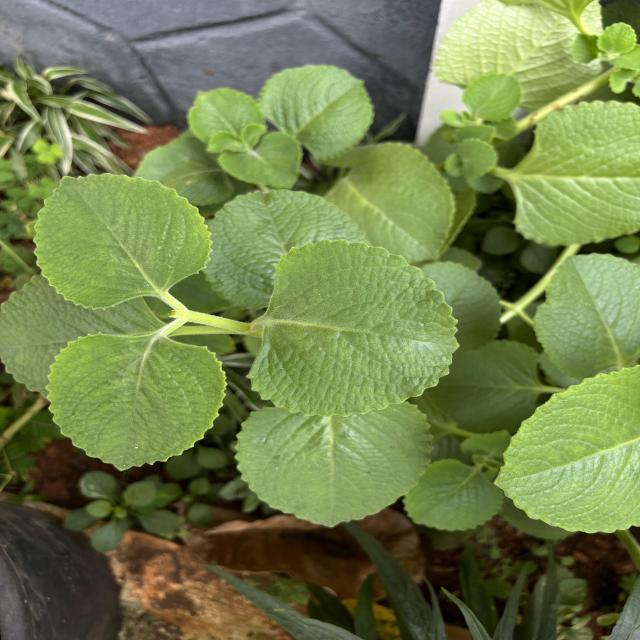Plectranthus barbatus: (246, 238, 464, 419), (44, 331, 229, 473), (232, 401, 436, 529), (491, 362, 640, 536), (32, 171, 214, 311), (206, 187, 372, 312), (512, 100, 640, 247), (260, 64, 376, 162), (217, 130, 305, 190), (186, 87, 262, 145)
